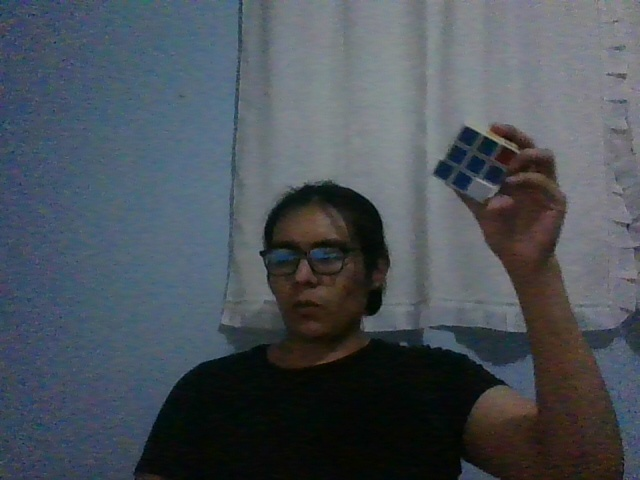rubik: (432, 122, 519, 203)
